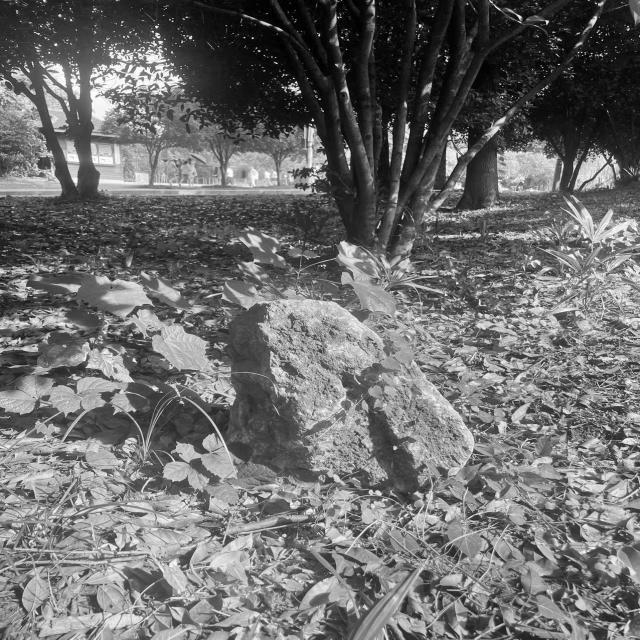Stone: (227, 300, 473, 491)
Tree: (242, 0, 600, 255), (0, 0, 154, 200)
